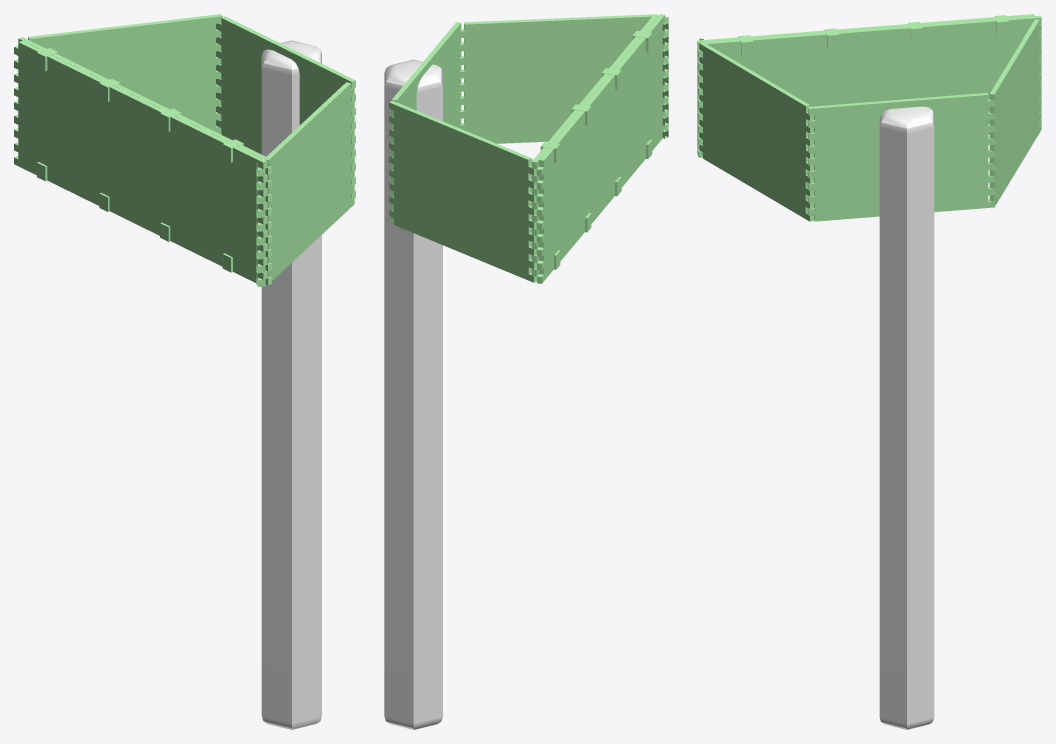
Rendered from basketball.glb.
3 views of the same model, side by side, from view 1: azimuth 30°, elevation 25°; view 2: azimuth 150°, elevation 25°; view 3: azimuth 270°, elevation 25° (orthographic). The views are drawn at different scales.
Parts seen in each view (by area): view 1: pCylinder7, polySurface163, polySurface154, polySurface178, polySurface155, polySurface153, polySurface146; view 2: pCylinder7, polySurface154, polySurface178, polySurface163, polySurface155, polySurface153, polySurface146; view 3: pCylinder7, polySurface153, polySurface155, polySurface178, polySurface154, polySurface163.
Part boxes in pixels (x1=…): pCylinder7: x1=261, y1=40, x2=321, y2=729; polySurface163: x1=14, y1=40, x2=267, y2=282; polySurface154: x1=28, y1=14, x2=222, y2=133; polySurface178: x1=264, y1=82, x2=354, y2=280; polySurface155: x1=216, y1=16, x2=355, y2=198; polySurface153: x1=18, y1=37, x2=271, y2=285; polySurface146: x1=256, y1=161, x2=265, y2=286; pCylinder7: x1=384, y1=59, x2=442, y2=729; polySurface154: x1=389, y1=101, x2=537, y2=282; polySurface178: x1=459, y1=14, x2=658, y2=143; polySurface163: x1=536, y1=14, x2=665, y2=283; polySurface155: x1=389, y1=22, x2=461, y2=224; polySurface153: x1=531, y1=16, x2=657, y2=276; polySurface146: x1=662, y1=16, x2=668, y2=138; pCylinder7: x1=879, y1=106, x2=934, y2=729; polySurface153: x1=698, y1=15, x2=1041, y2=157; polySurface155: x1=807, y1=93, x2=995, y2=221; polySurface178: x1=699, y1=42, x2=813, y2=221; polySurface154: x1=989, y1=19, x2=1041, y2=204; polySurface163: x1=697, y1=14, x2=1034, y2=149.
Bounding box in the file's own units: 0.4061 × 1.12 × 0.5661.
